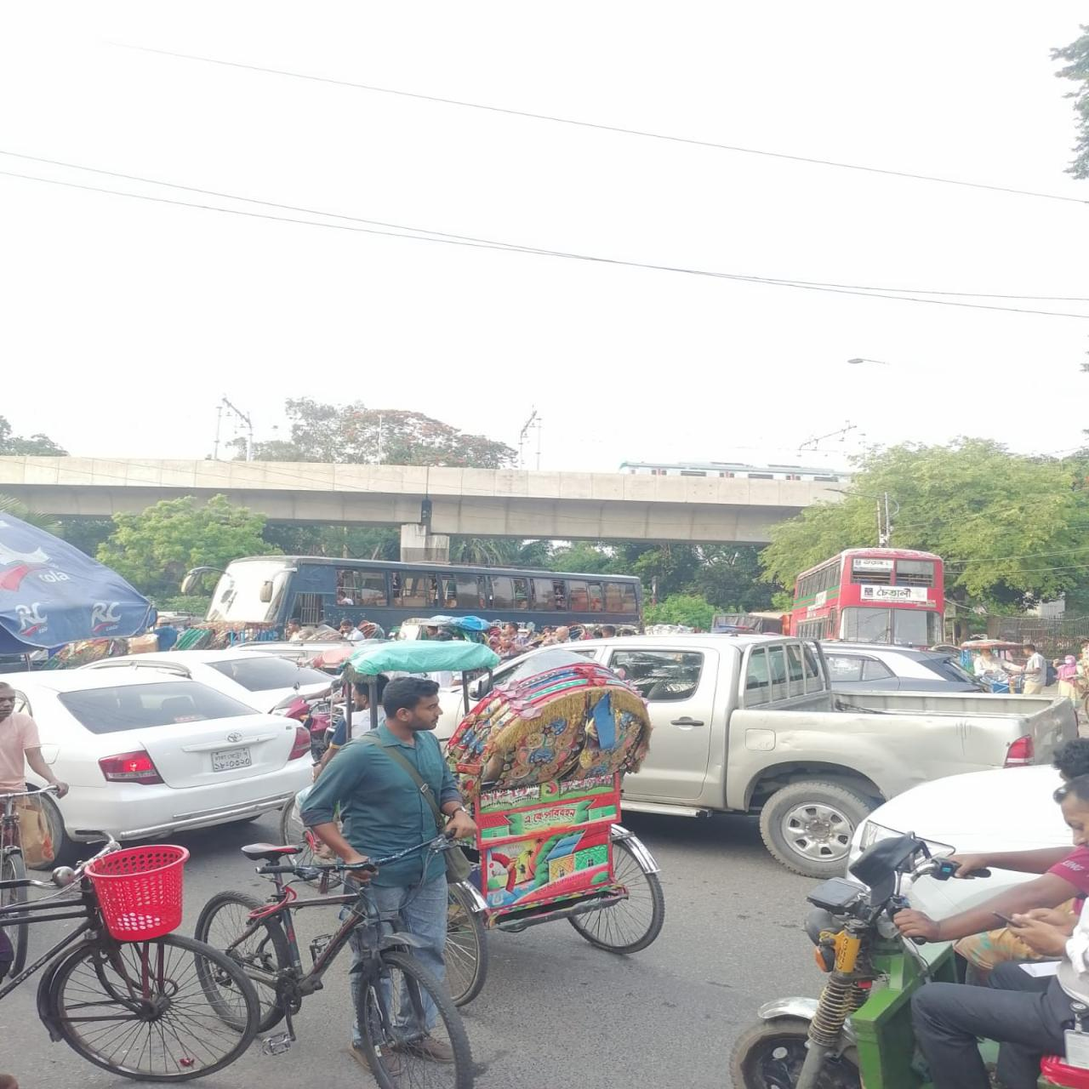person: (327, 672, 455, 970)
